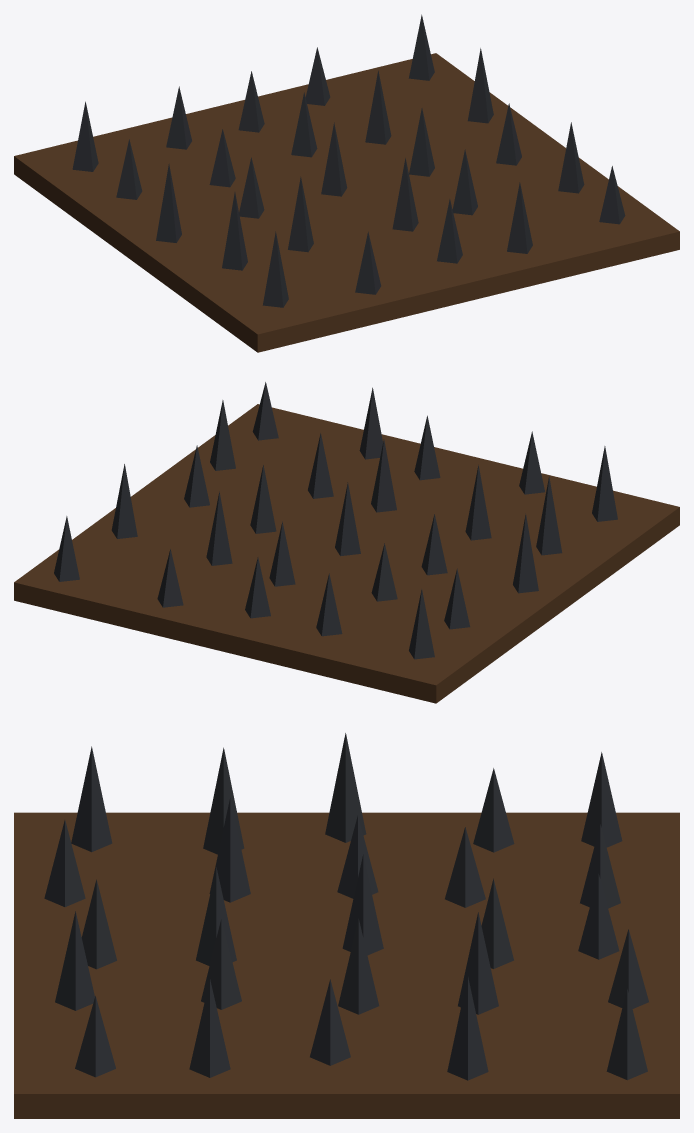
Rendered from Spikes.obj.
3 views of the same model, one above another, from view 1: azimuth 30°, elevation 25°; view 2: azimuth 150°, elevation 25°; view 3: azimuth 270°, elevation 25° (orthographic). The views are drawn at different scales.
Visible parts, largest first — view 1: Spikes; view 2: Spikes; view 3: Spikes.
Part boxes in pixels (x1=…): Spikes: x1=14, y1=14, x2=679, y2=352; Spikes: x1=14, y1=382, x2=679, y2=703; Spikes: x1=14, y1=733, x2=679, y2=1118.
Size of the model in its own units: 2.9 by 0.6115 by 2.9.
